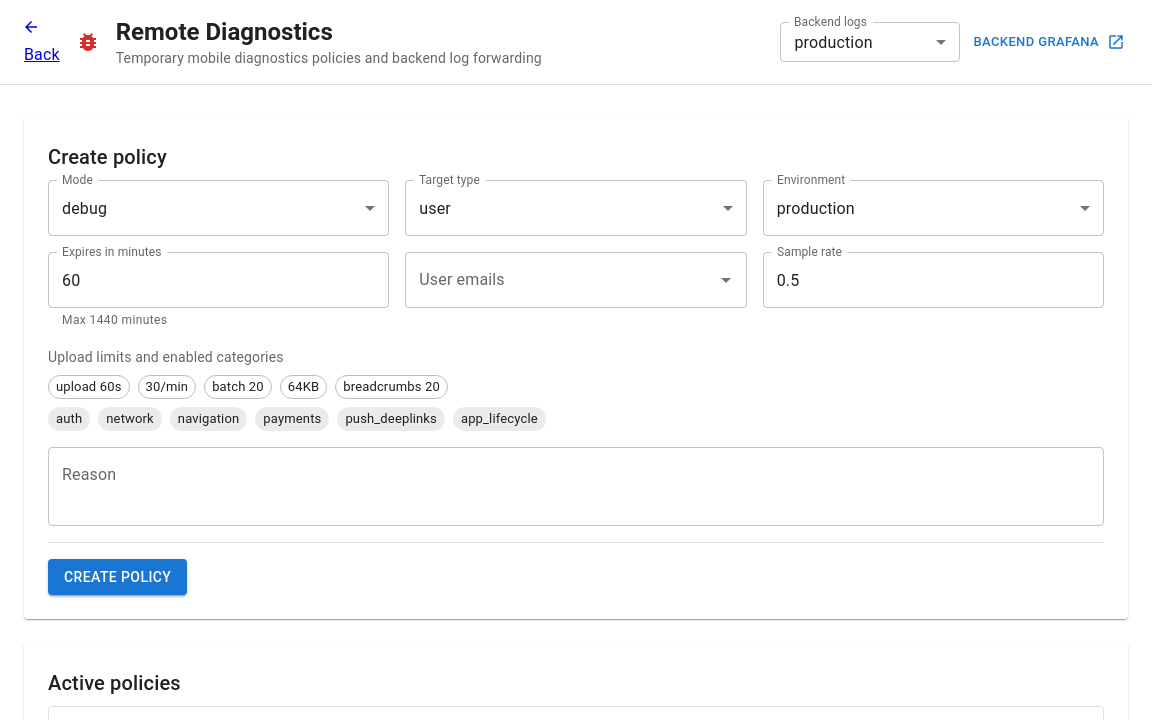
Test: RemoteDiagnosticsPage › shows active policies, target dropdowns, and trace mode
expect the dropdown labelled "Backend logs" shows "production": met, box [780, 22, 960, 62]
expect the text "upload 60s" is shown: met, box [56, 379, 122, 394]
Select "platform" in the dropdown labelled "Target type". click: (576, 208)
box: [405, 180, 747, 236]
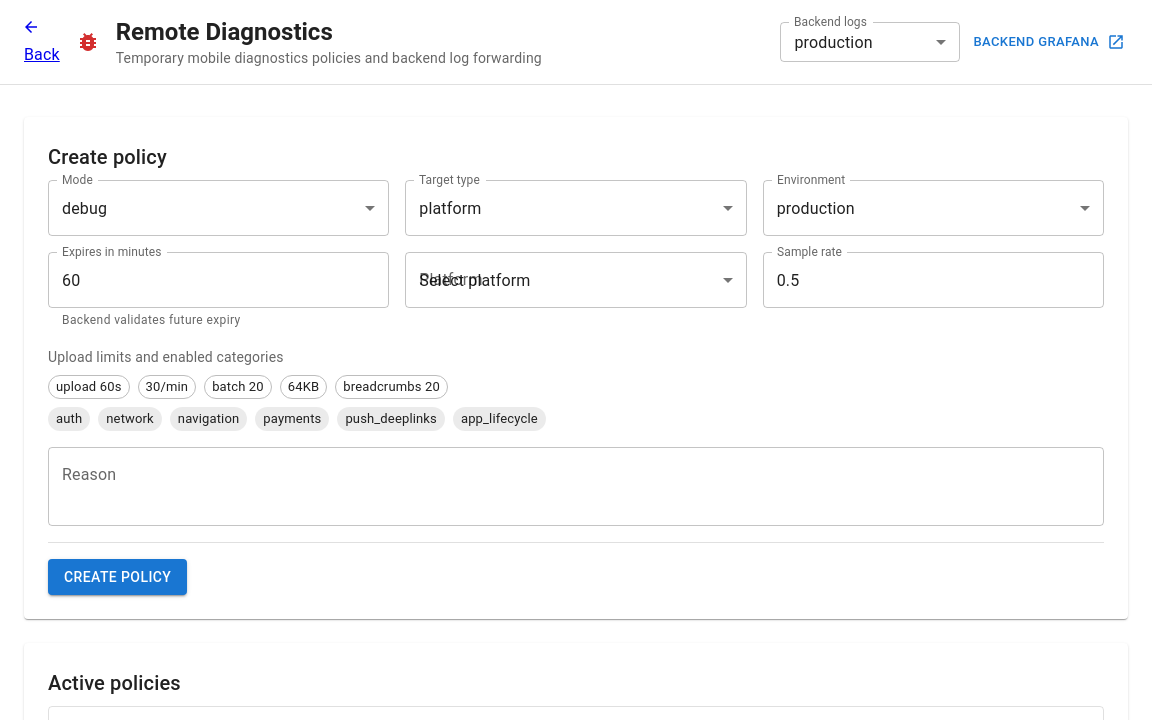
expect the dropdown labelled "Environment" is shown: met, box [763, 180, 1104, 236]
expect the dropdown labelled "Platform" is shown: met, box [405, 252, 747, 308]
